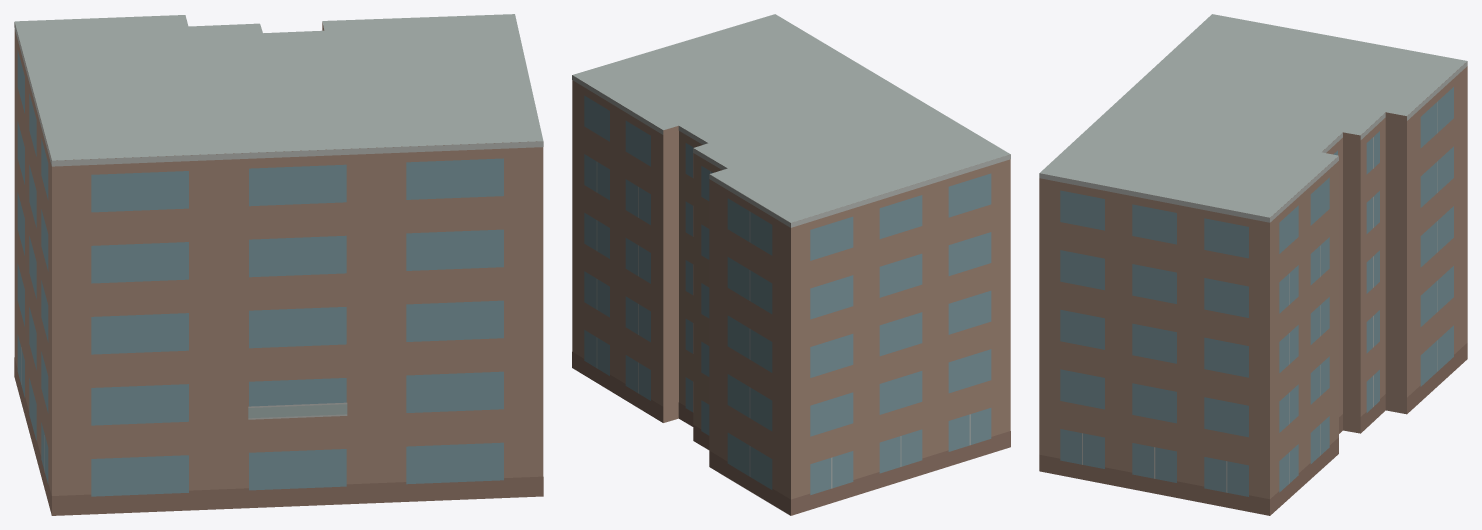
The model's file is survey-upis-32519782.glb.
3 views of the same model, side by side, from view 1: azimuth 30°, elevation 25°; view 2: azimuth 150°, elevation 25°; view 3: azimuth 270°, elevation 25° (orthographic). The views are drawn at different scales.
Visible parts, largest first — view 1: survey-upis-32519782.tmp; view 2: survey-upis-32519782.tmp; view 3: survey-upis-32519782.tmp.
Part boxes in pixels (x1=…): survey-upis-32519782.tmp: x1=14, y1=14, x2=543, y2=515; survey-upis-32519782.tmp: x1=572, y1=14, x2=1010, y2=515; survey-upis-32519782.tmp: x1=1039, y1=14, x2=1467, y2=515.
Bounding box in the file's own units: 21.26 × 14.5 × 18.88.
